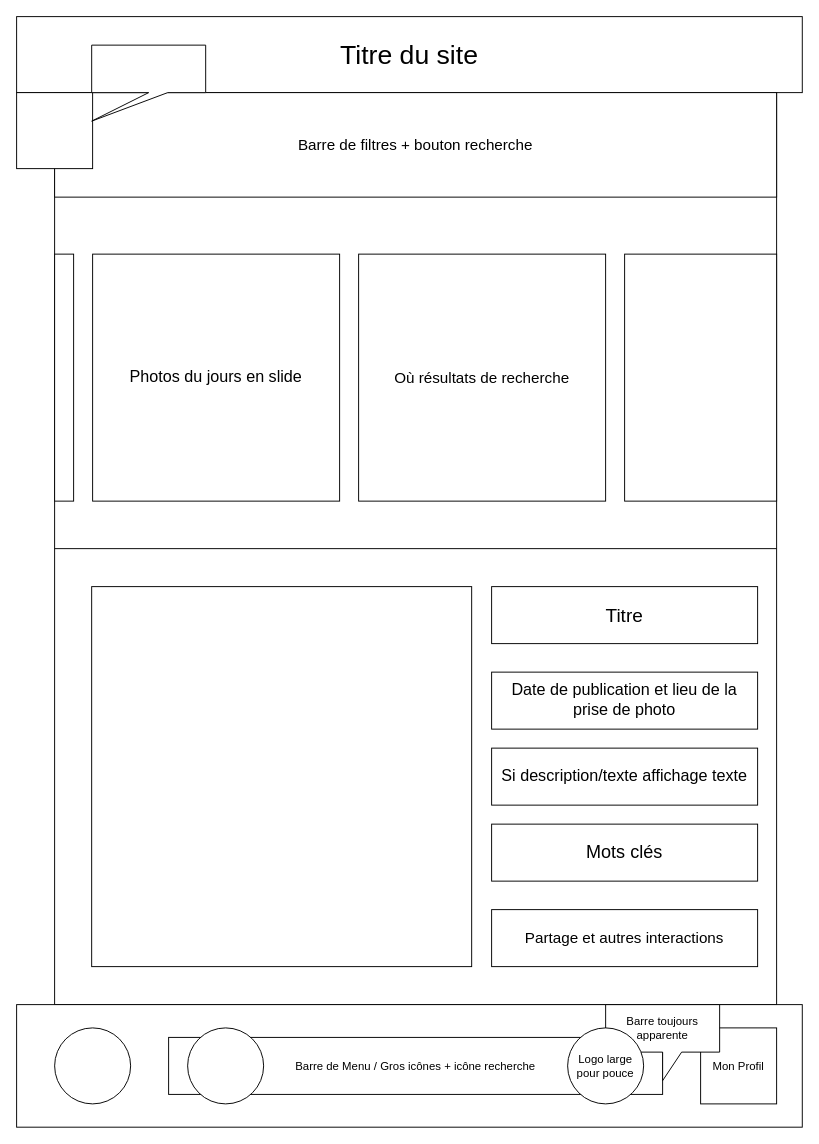
This 819x1144 diagram has some shape labels left out. The centre of each missing label's shape, as x and y in pixels:
8 par 8 max puis changement de ligne: (700,377)
Logo: (92,1065)
Logo actif Couleur inversée: (225,1065)
Logo Galerie: (54,130)
Logo toujours apparent: (148,82)
Photo sélectionnée: (281,776)
